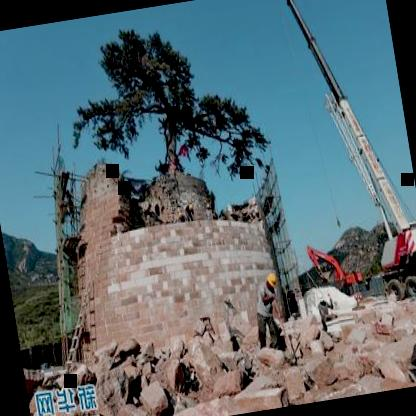helmet: (264, 270, 280, 292)
